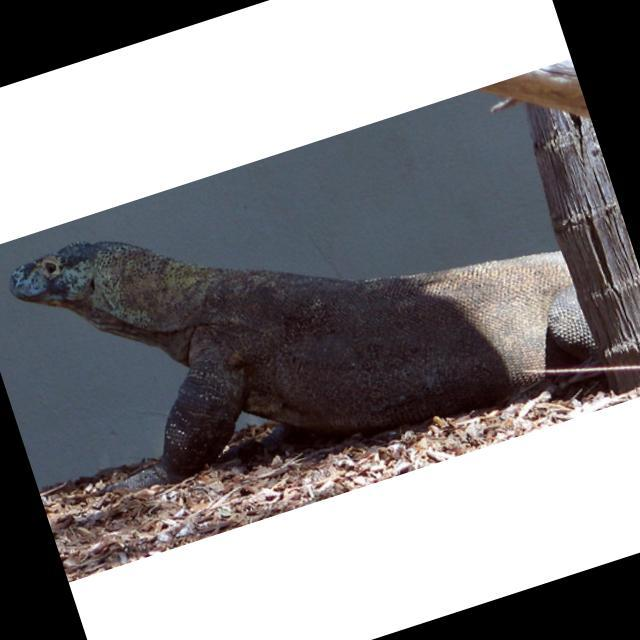KomodoDragon: (4, 95, 608, 536)
